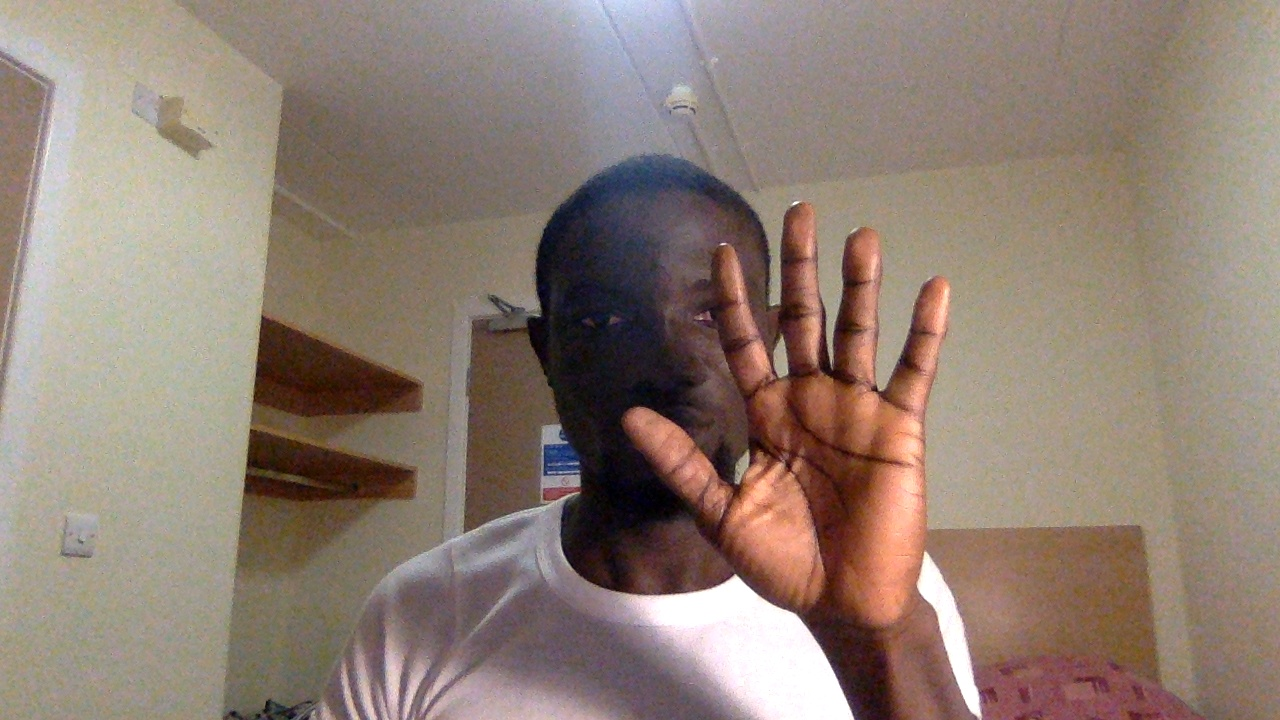Hello: (577, 188, 962, 630)
